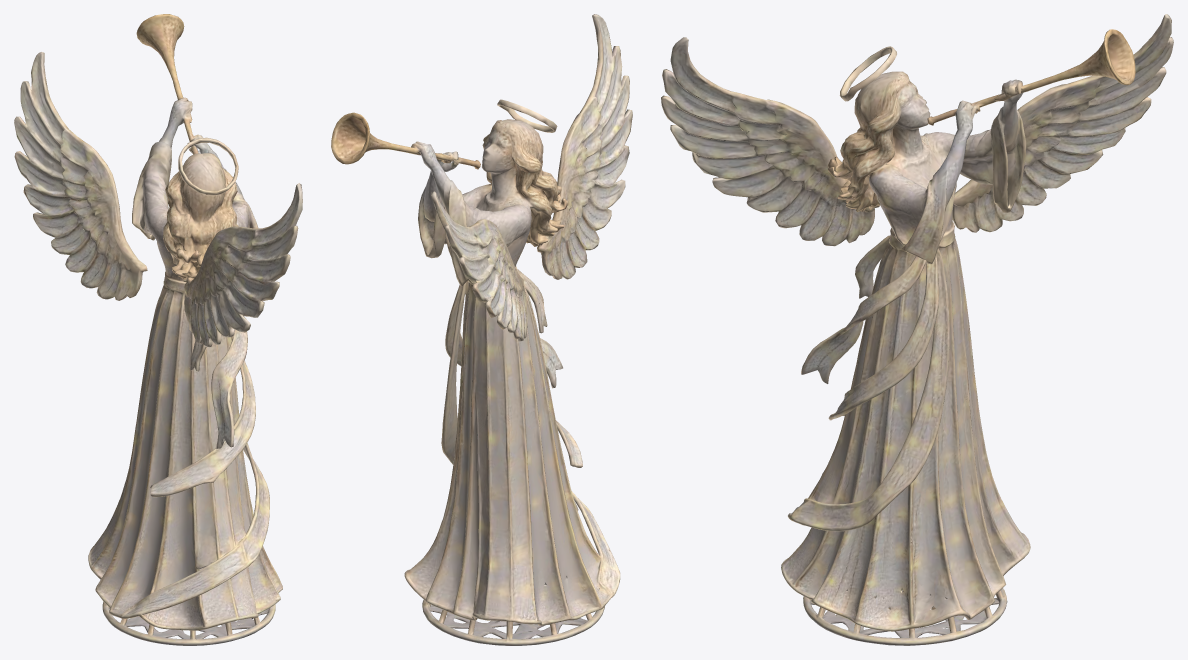
Rendered from lt_angel.glb.
3 views of the same model, side by side, from view 1: azimuth 30°, elevation 25°; view 2: azimuth 150°, elevation 25°; view 3: azimuth 270°, elevation 25° (orthographic). The views are drawn at different scales.
Visible parts, largest first — view 1: tripo_node_c9a2e185-53f3-4a6a-b664-08e49accff9b; view 2: tripo_node_c9a2e185-53f3-4a6a-b664-08e49accff9b; view 3: tripo_node_c9a2e185-53f3-4a6a-b664-08e49accff9b.
Part boxes in pixels (box(x1,y1,x2,y2)): tripo_node_c9a2e185-53f3-4a6a-b664-08e49accff9b: box(14, 14, 302, 645); tripo_node_c9a2e185-53f3-4a6a-b664-08e49accff9b: box(331, 14, 632, 645); tripo_node_c9a2e185-53f3-4a6a-b664-08e49accff9b: box(661, 14, 1173, 645).
Size of the model in its own units: 0.3333 by 1 by 0.7655.
1 material, 1 textured.
